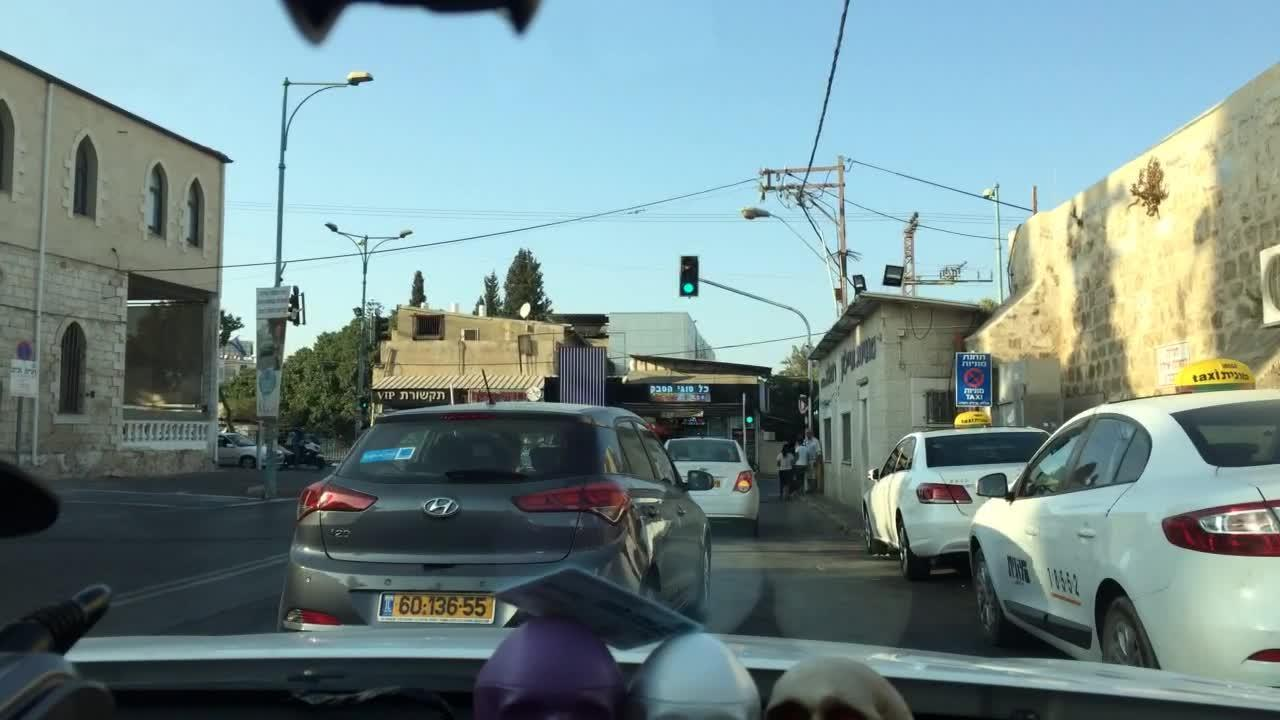Hyundai: (412, 486, 470, 529)
